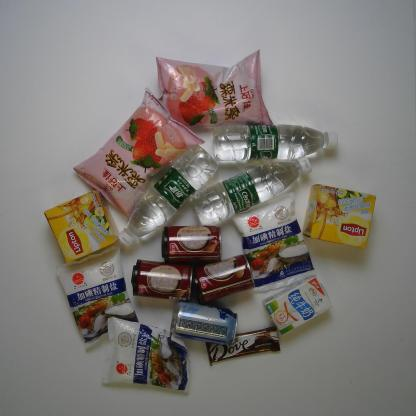Alcohol: (169, 300, 239, 347)
Canned Food: (193, 253, 256, 306), (130, 259, 194, 303), (160, 224, 223, 265)
Chocolate: (204, 325, 282, 367)
Drink: (117, 143, 219, 249), (190, 155, 313, 226), (211, 123, 339, 163)
Instant Drink: (43, 190, 121, 263), (301, 184, 377, 250)
Milk: (261, 274, 334, 336)
Puffed Food: (71, 86, 206, 221), (155, 48, 275, 127)
Seasoner: (54, 243, 140, 352), (230, 191, 318, 296), (101, 316, 192, 394)
